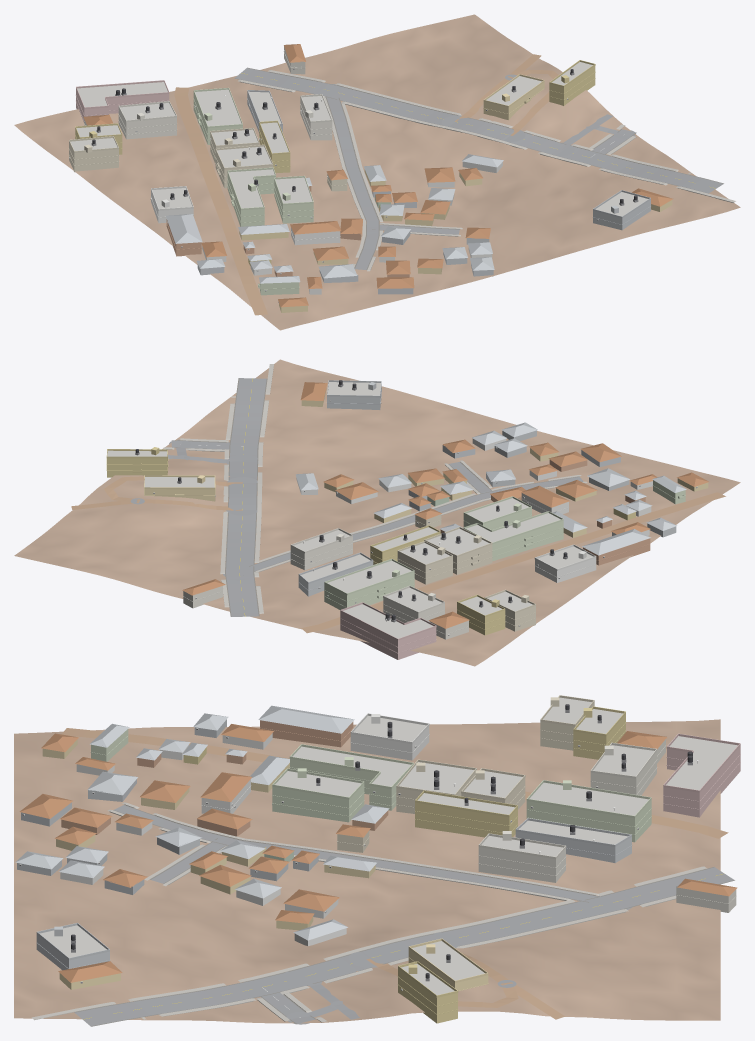
The picture shows the model from 3 angles, top to bottom: view 1: azimuth 30°, elevation 25°; view 2: azimuth 150°, elevation 25°; view 3: azimuth 270°, elevation 25°; orthographic projection. The views are drawn at different scales.
Parts seen in each view (by area): view 1: Terrain-col, Buildings-col, Roads-col, Details, Sidewalks-col; view 2: Terrain-col, Buildings-col, Roads-col, Details, Sidewalks-col; view 3: Terrain-col, Buildings-col, Roads-col, Details, Sidewalks-col.
Part boxes in pixels (x1,y1,x2,y2): Terrain-col: [14, 14, 740, 330]; Buildings-col: [69, 44, 672, 312]; Roads-col: [174, 54, 723, 315]; Details: [68, 50, 650, 302]; Sidewalks-col: [238, 70, 735, 271]; Terrain-col: [14, 359, 740, 666]; Buildings-col: [107, 382, 708, 659]; Roads-col: [71, 378, 725, 633]; Details: [106, 380, 697, 653]; Sidewalks-col: [163, 364, 587, 613]; Terrain-col: [14, 719, 720, 1023]; Buildings-col: [15, 697, 740, 1023]; Roads-col: [61, 728, 734, 1026]; Details: [19, 695, 740, 1014]; Sidewalks-col: [31, 802, 707, 1022].
Bounding box in the file's own units: 268 × 20.37 × 263.
